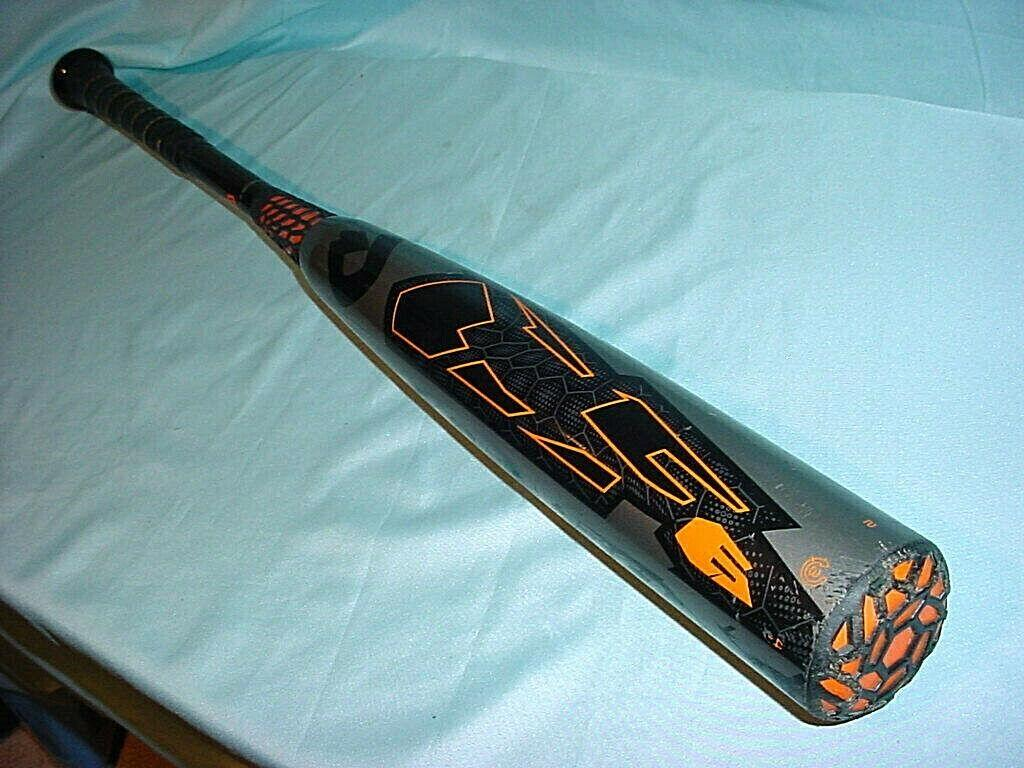Baseball-Bat: (38, 3, 946, 722)
